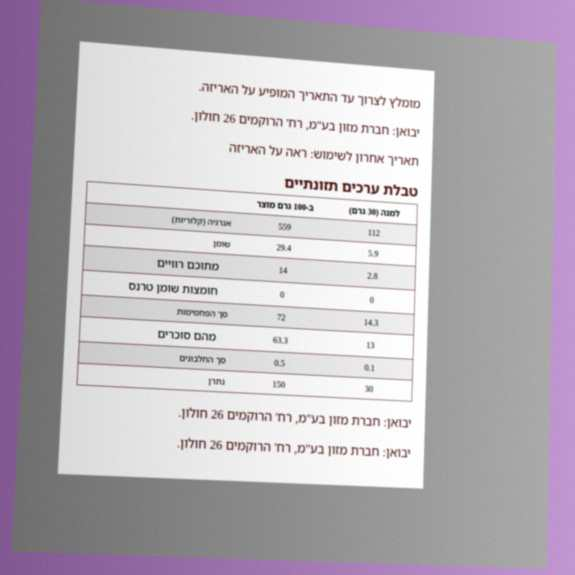carbs: (275, 309, 287, 325)
energy: (277, 219, 293, 234)
fat: (275, 240, 293, 255)
protein: (272, 355, 287, 371)
